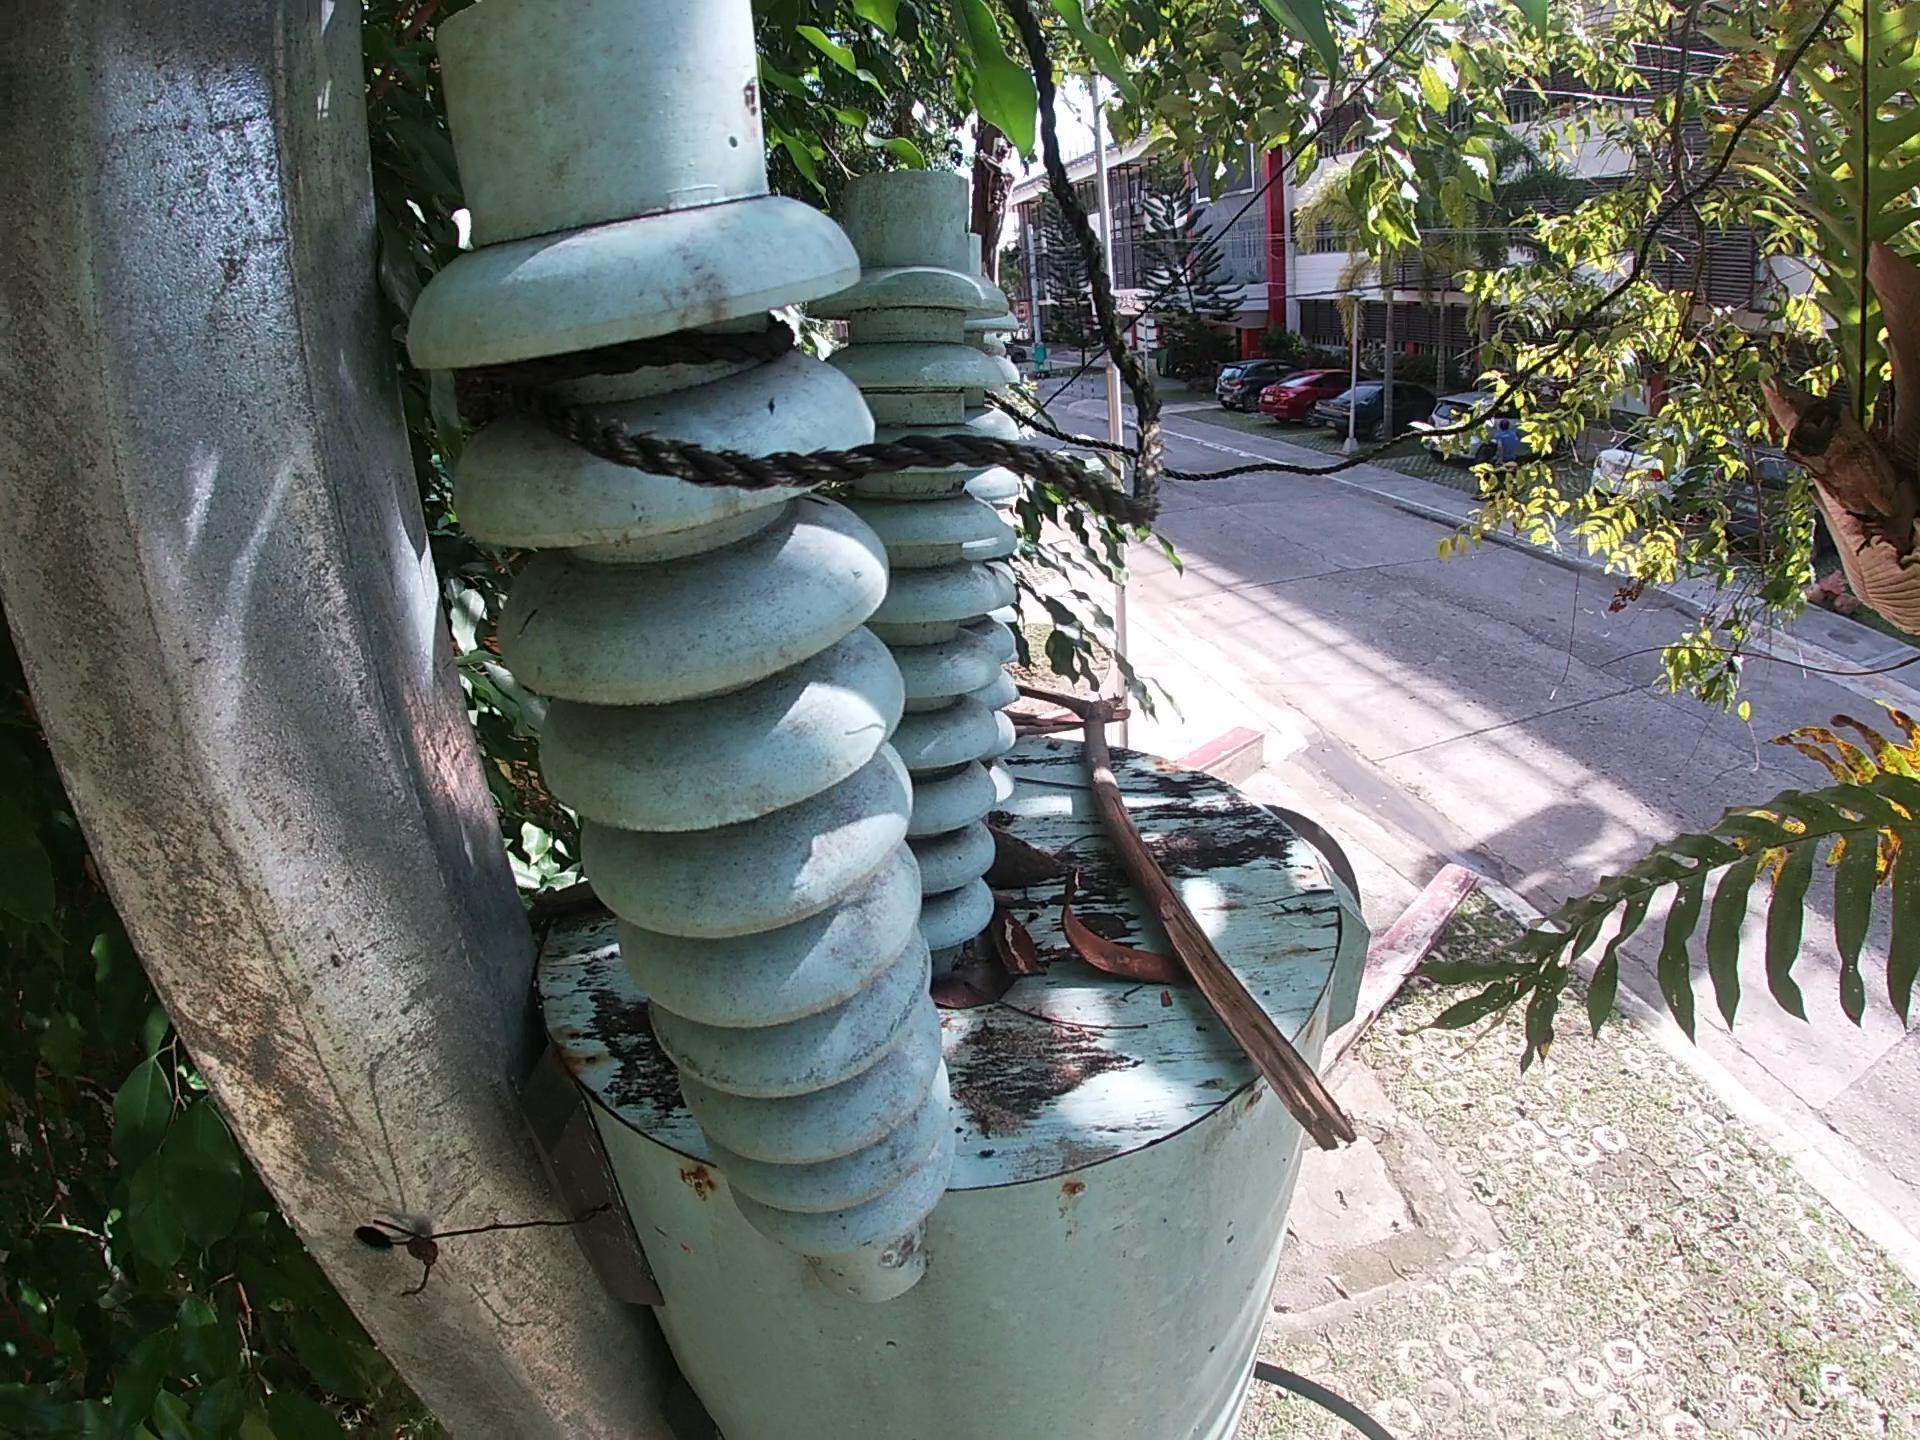leaf: (918, 961, 992, 1012), (531, 889, 605, 939)
mahogany fruit: (1054, 862, 1185, 989), (984, 830, 1063, 889)
tree branch: (1014, 672, 1374, 1159), (999, 998, 1160, 1035), (1004, 703, 1101, 743), (996, 921, 1048, 989), (1010, 767, 1092, 799), (1120, 771, 1226, 796), (998, 892, 1036, 911)
